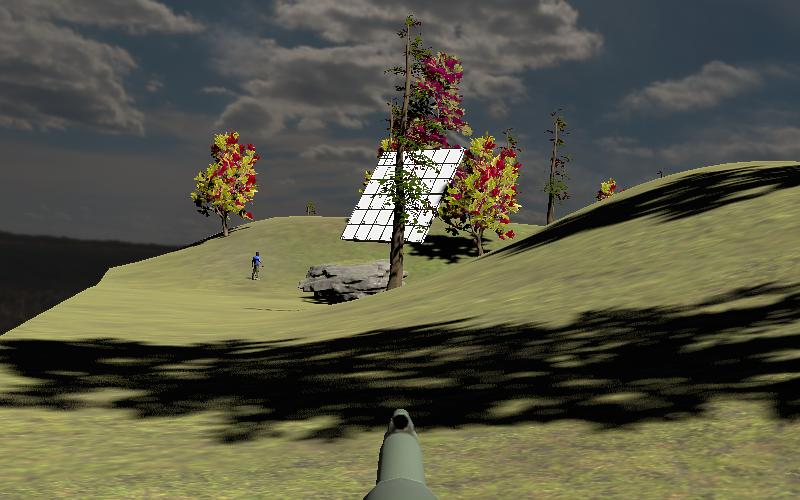Human: (247, 249, 265, 283)
